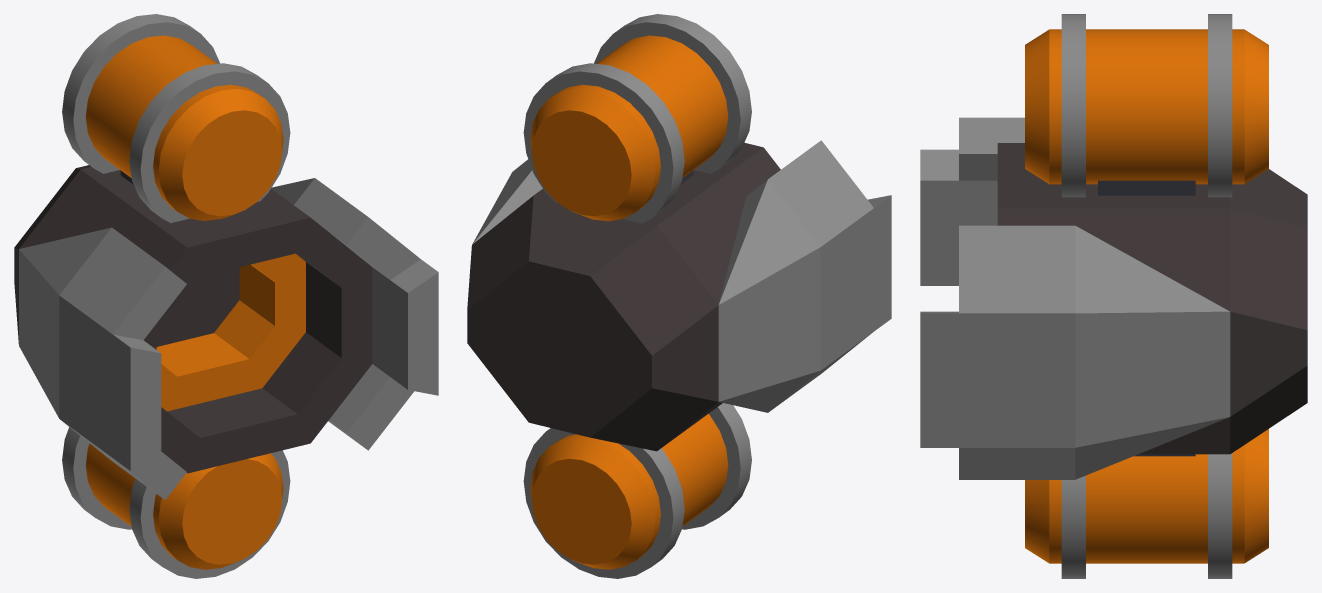
File: piping_fuel_end.fbx
The picture shows the model from 3 angles, left to right: view 1: azimuth 30°, elevation 25°; view 2: azimuth 150°, elevation 25°; view 3: azimuth 270°, elevation 25°; orthographic projection. The views are drawn at different scales.
Visible parts, largest first — view 1: mergedBlocks; view 2: mergedBlocks; view 3: mergedBlocks.
Boxes of the visible parts, <box> form: mergedBlocks: <box>14,14,438,578</box>; mergedBlocks: <box>467,14,891,578</box>; mergedBlocks: <box>920,14,1307,578</box>.
Size of the model in its own units: 10 by 15.6 by 10.
